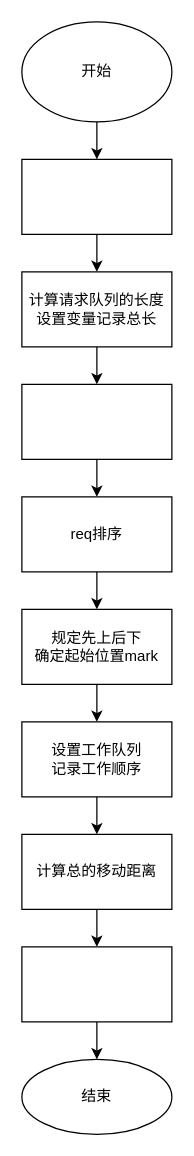
Image size: 194x1156. Some labels were removed from this diagram. The shapes that lost their labels are listed below. From the top down, each one's centre as x and y in pixels, then its label:
the point at 96,196: 传入参数
the point at 96,421: mark记录开始位置 work记录工作顺序
the point at 96,984: 计算sum/num
